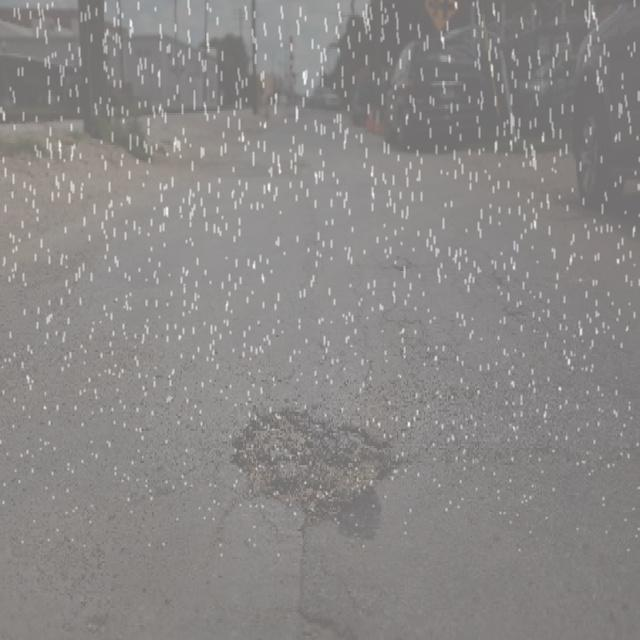Pothole: (213, 390, 422, 546)
